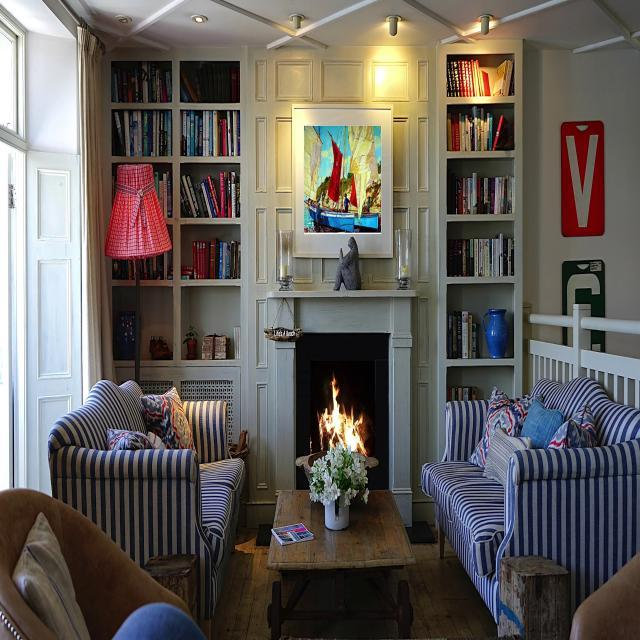Fire: (318, 375, 367, 457)
